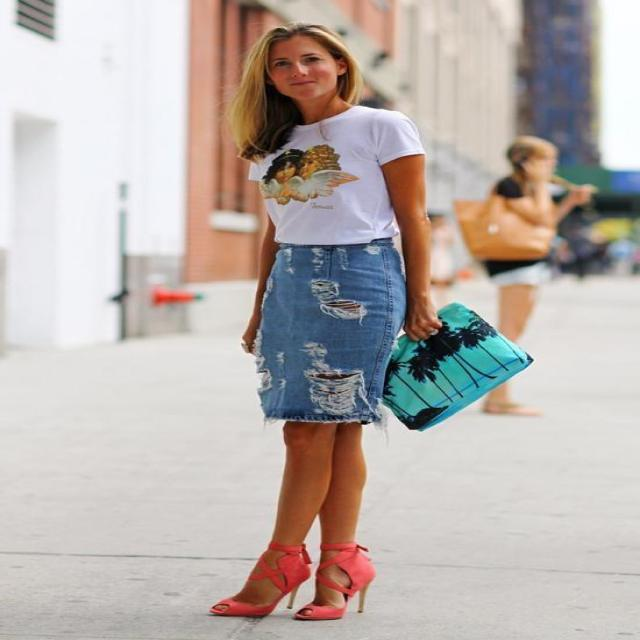Tshirt: (248, 104, 426, 246)
skirt: (257, 237, 406, 423)
